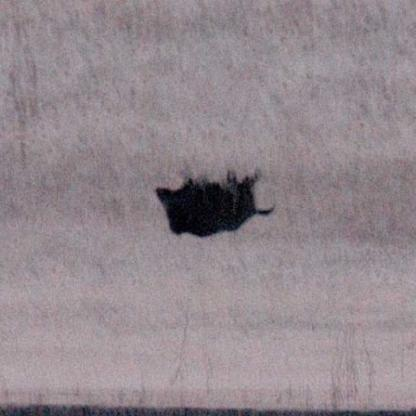boar: (145, 162, 287, 232)
